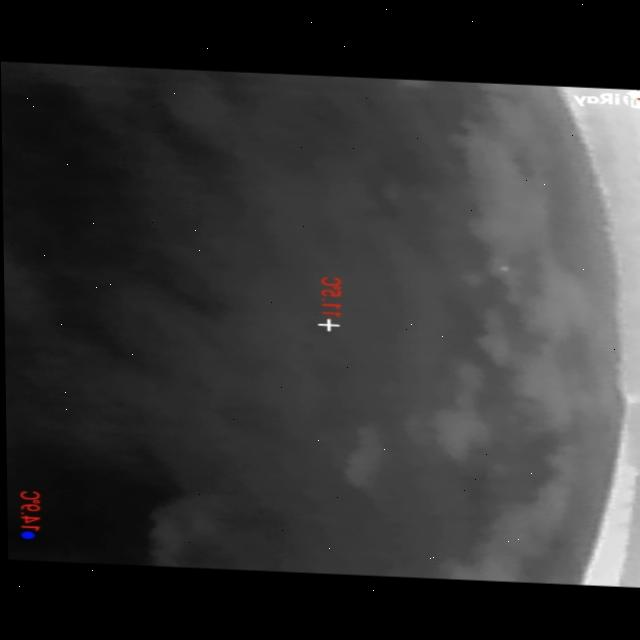drone: (495, 259, 511, 270)
